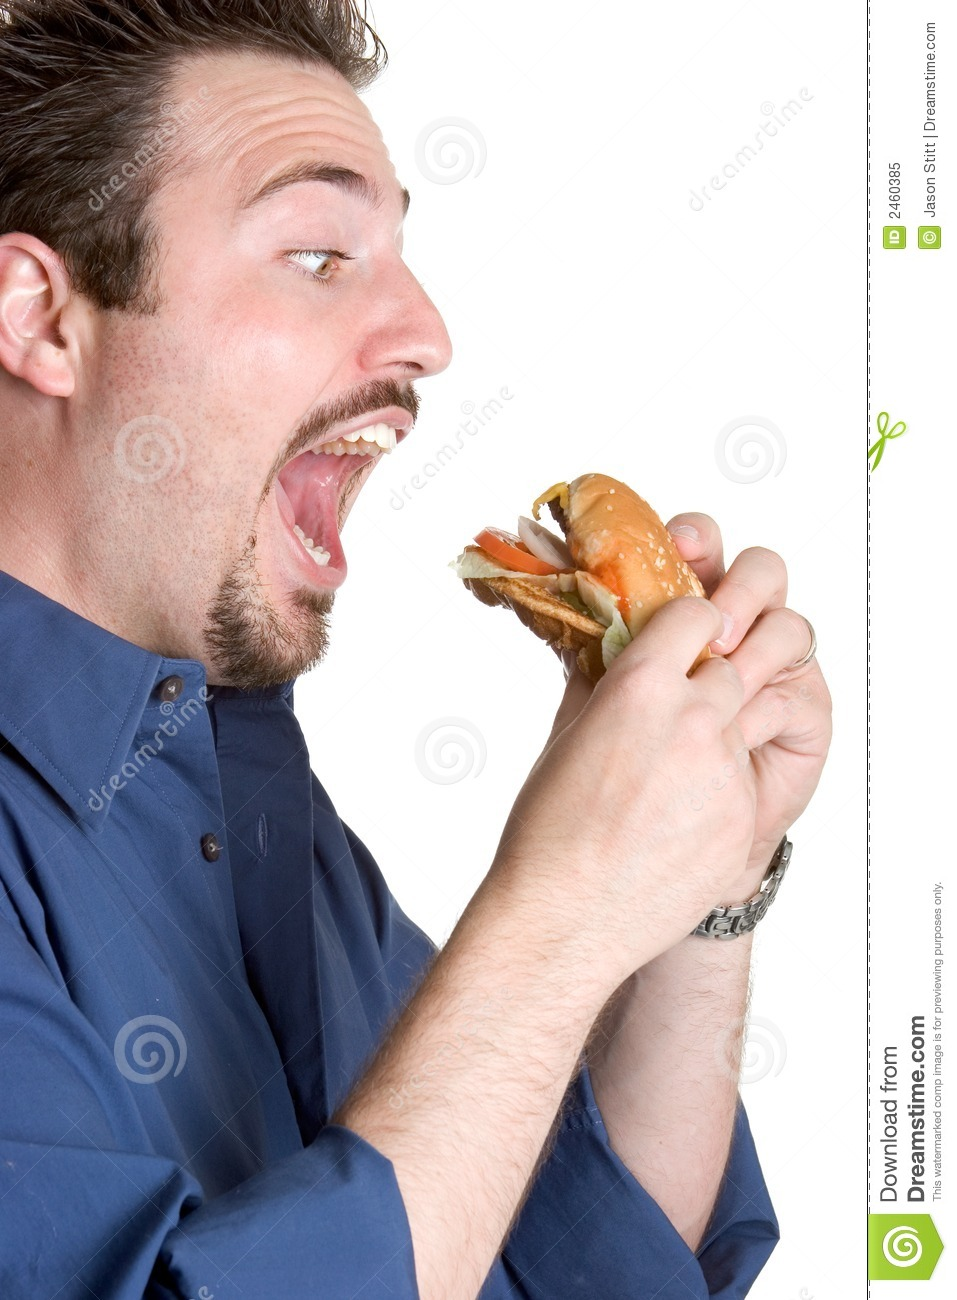eating: (3, 10, 818, 1125)
